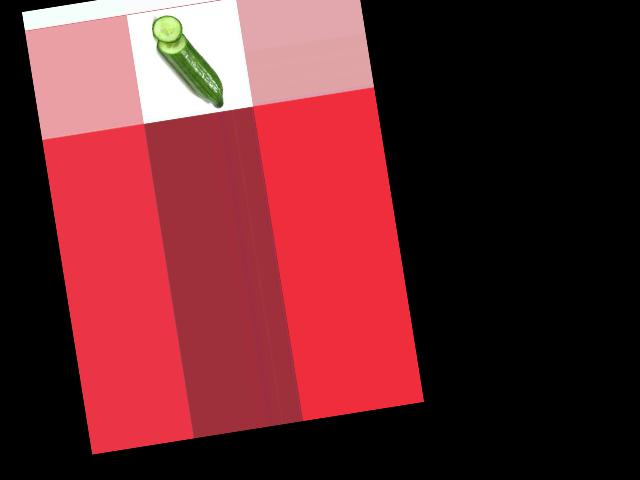cucumber: (155, 27, 225, 115)
